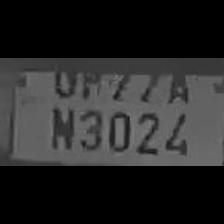0: (104, 104, 130, 152)
2: (132, 106, 160, 156)
3: (74, 104, 102, 152)
4: (160, 106, 190, 156)
7: (130, 60, 160, 102), (104, 61, 130, 101)
A: (160, 60, 190, 104)
P: (78, 58, 106, 100)
U: (48, 58, 78, 98)
